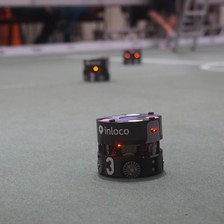robot: (95, 108, 169, 180), (81, 54, 112, 83), (120, 45, 143, 66)
